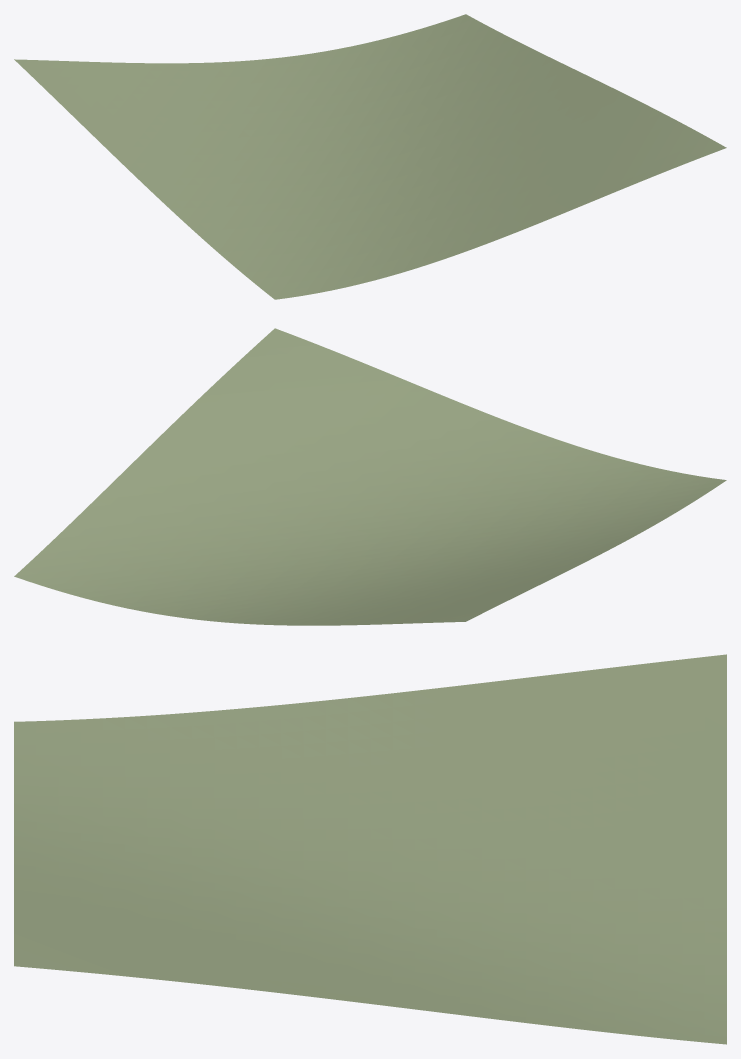
The model's file is expanse-8-23.glb.
The picture shows the model from 3 angles, top to bottom: view 1: azimuth 30°, elevation 25°; view 2: azimuth 150°, elevation 25°; view 3: azimuth 270°, elevation 25°; orthographic projection. The views are drawn at different scales.
Parts seen in each view (by area): view 1: expanse-8-23; view 2: expanse-8-23; view 3: expanse-8-23.
Part boxes in pixels (x1=…): expanse-8-23: x1=14, y1=14, x2=726, y2=299; expanse-8-23: x1=14, y1=328, x2=726, y2=625; expanse-8-23: x1=14, y1=654, x2=726, y2=1044.
Bounding box in the file's own units: 256 × 37.76 × 256.
